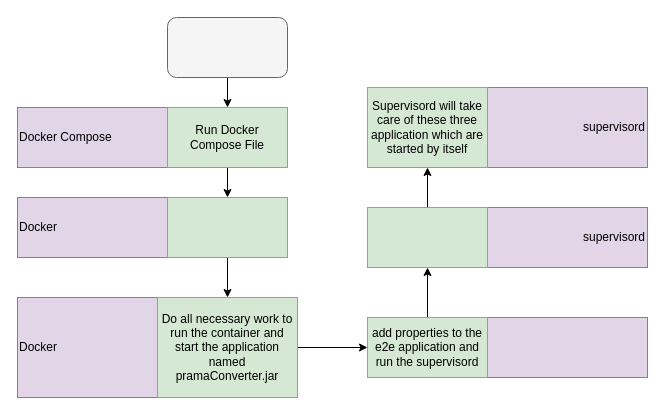
This 665x415 diagram has some shape labels left out. Each missing label, with the box of its shape:
paramConverter.jar: (366, 316, 648, 378)
Run Docker File: (166, 196, 288, 258)
Start: (166, 16, 288, 78)
Supervisord will run other applications (e2e.jar, test.jar, vnc): (366, 206, 488, 268)
